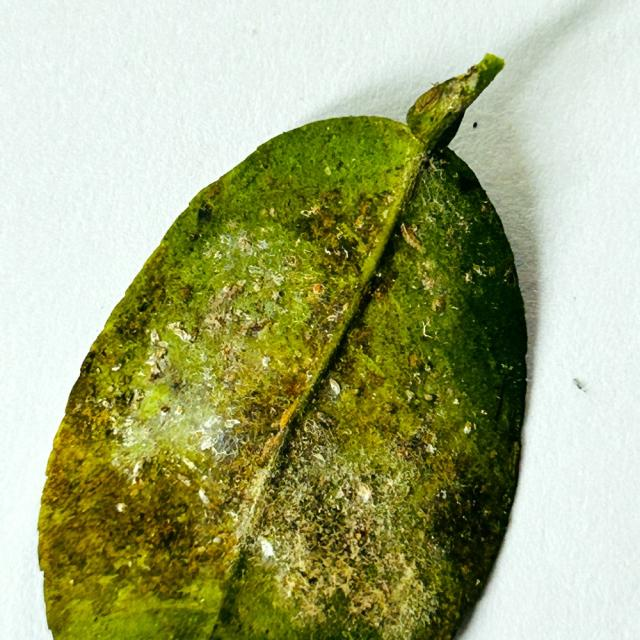Bacterial_Blight: (39, 472, 116, 588), (296, 127, 395, 191), (270, 415, 345, 499), (206, 306, 272, 381), (300, 485, 366, 557), (298, 191, 363, 253), (340, 400, 401, 459), (400, 305, 447, 374), (412, 167, 463, 228), (293, 225, 353, 276), (341, 567, 394, 623), (343, 269, 386, 333), (400, 362, 447, 416), (143, 508, 193, 557), (184, 192, 224, 251), (224, 153, 276, 196), (123, 506, 172, 544), (315, 585, 356, 629), (203, 284, 244, 327), (144, 330, 174, 378), (136, 382, 174, 419), (272, 363, 311, 398), (80, 396, 113, 427), (259, 426, 286, 463), (404, 427, 436, 458), (210, 430, 240, 459), (415, 85, 443, 113), (453, 170, 483, 196), (360, 368, 387, 391), (260, 297, 285, 321), (78, 350, 98, 377), (244, 318, 270, 338), (116, 387, 139, 409), (202, 311, 225, 333), (325, 303, 346, 326), (217, 603, 236, 626), (134, 295, 155, 315), (317, 207, 336, 229), (225, 282, 244, 300), (196, 204, 213, 223), (432, 296, 447, 312), (503, 267, 516, 285), (409, 352, 421, 369), (179, 286, 193, 300), (222, 343, 233, 360), (186, 232, 202, 243), (316, 411, 328, 424), (373, 286, 385, 299), (285, 255, 298, 267), (176, 513, 188, 524), (513, 440, 521, 456), (307, 575, 318, 585), (336, 159, 345, 171), (258, 162, 268, 171), (489, 449, 498, 458), (277, 289, 285, 299), (488, 266, 496, 276), (262, 628, 269, 635)
Lemon: (36, 55, 529, 639)
